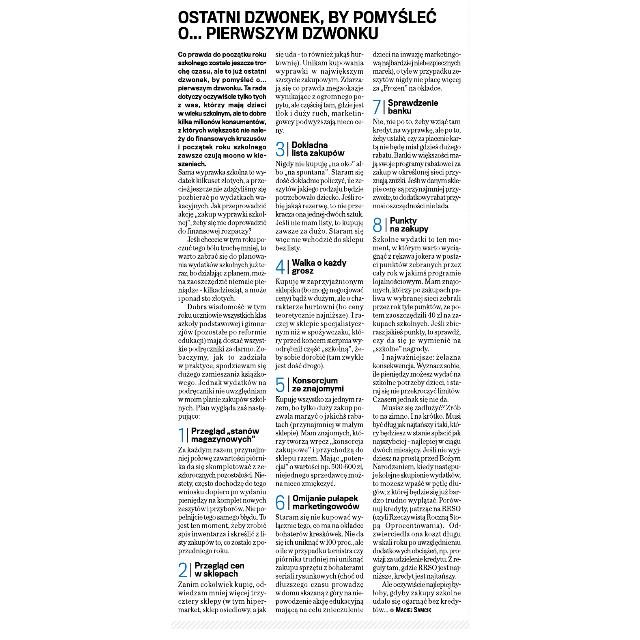author: (393, 604, 435, 616)
body: (273, 50, 367, 616), (371, 50, 463, 614), (173, 168, 269, 616)
lead: (172, 50, 268, 168)
title: (175, 4, 441, 46)
